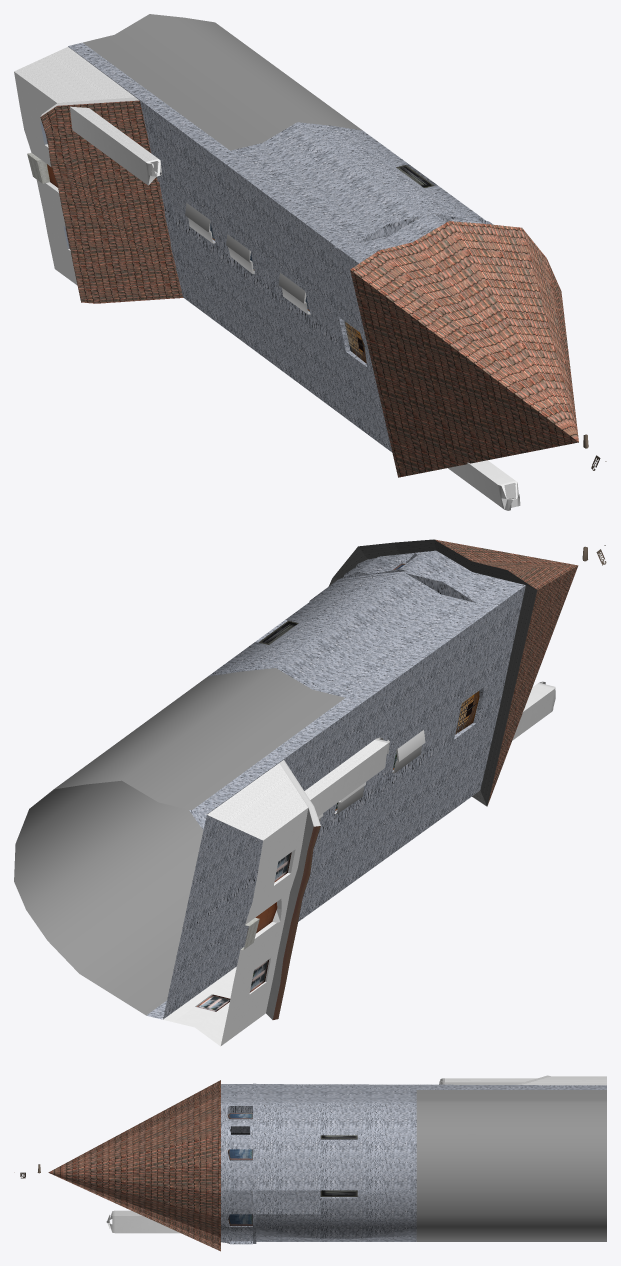
The model's file is Myyrivahe_58-origo.obj.
3 views of the same model, one above another, from view 1: azimuth 30°, elevation 25°; view 2: azimuth 150°, elevation 25°; view 3: azimuth 270°, elevation 25° (orthographic). The views are drawn at different scales.
Visible parts, largest first — view 1: myv_60, xxx; view 2: myv_60, xxx; view 3: myv_60, xxx.
Part boxes in pixels (box(x1,y1,x2,y2)): myv_60: box(14, 42, 606, 510); xxx: box(14, 14, 362, 161); myv_60: box(146, 539, 606, 1046); xxx: box(14, 668, 387, 1015); myv_60: box(14, 1075, 606, 1251); xxx: box(416, 1076, 606, 1241).
Bounding box in the file's own units: 11.31 × 10 × 34.18.
